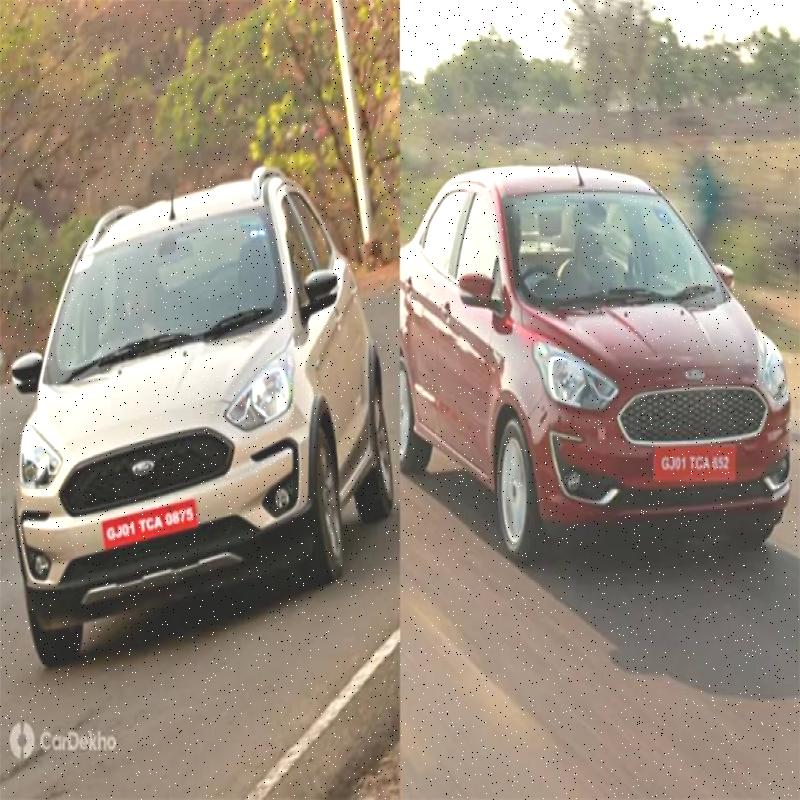car: (29, 169, 388, 610), (422, 139, 786, 560)
